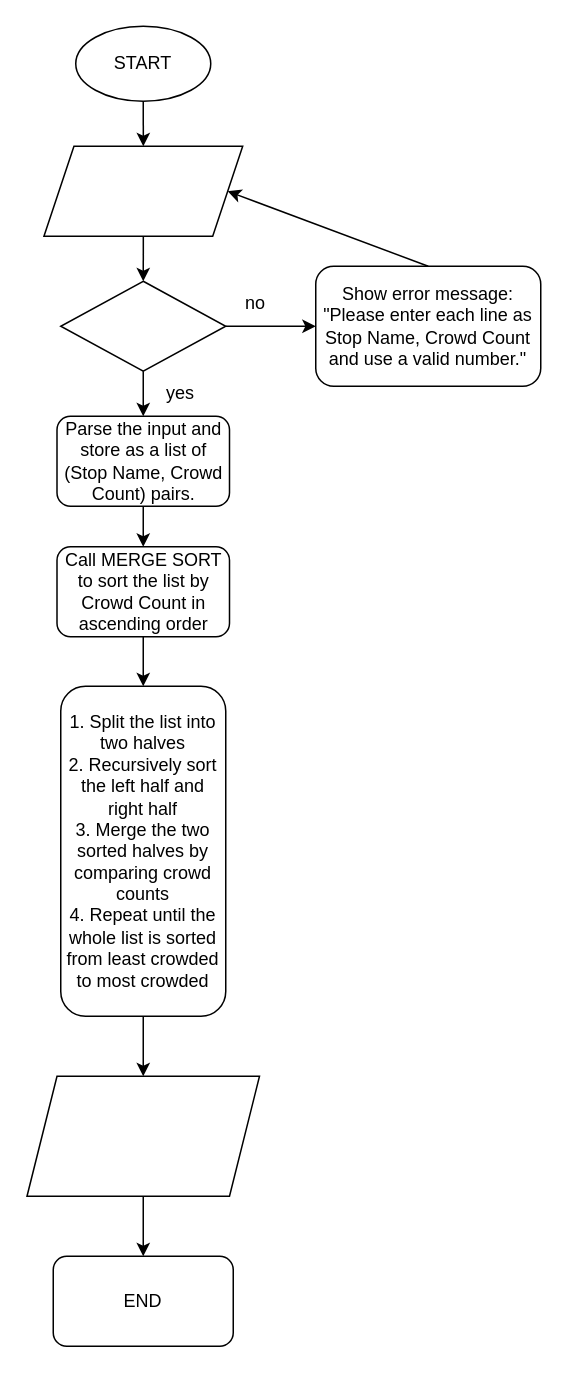
This 567x1373 diagram has some shape labels left out. Each missing label, with the box of its shape:
Display results to the user: - Final Ranked List - Step-by-Step Sorting Steps: (26, 1075, 260, 1196)
is the input valid?: (59, 280, 226, 371)
user enters shuttle stops in the format: Stop Name, Crowd Count: (42, 145, 243, 236)
